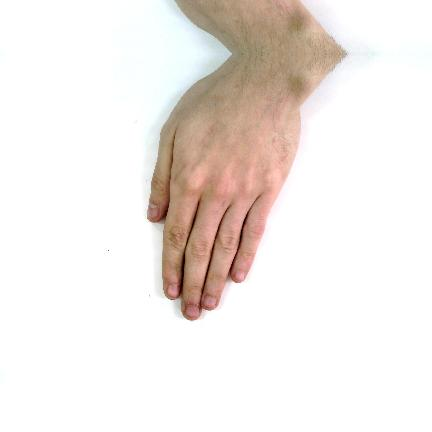Nail: (147, 202, 159, 220), (185, 305, 200, 319), (167, 284, 180, 297), (203, 296, 216, 308), (235, 272, 246, 281)
